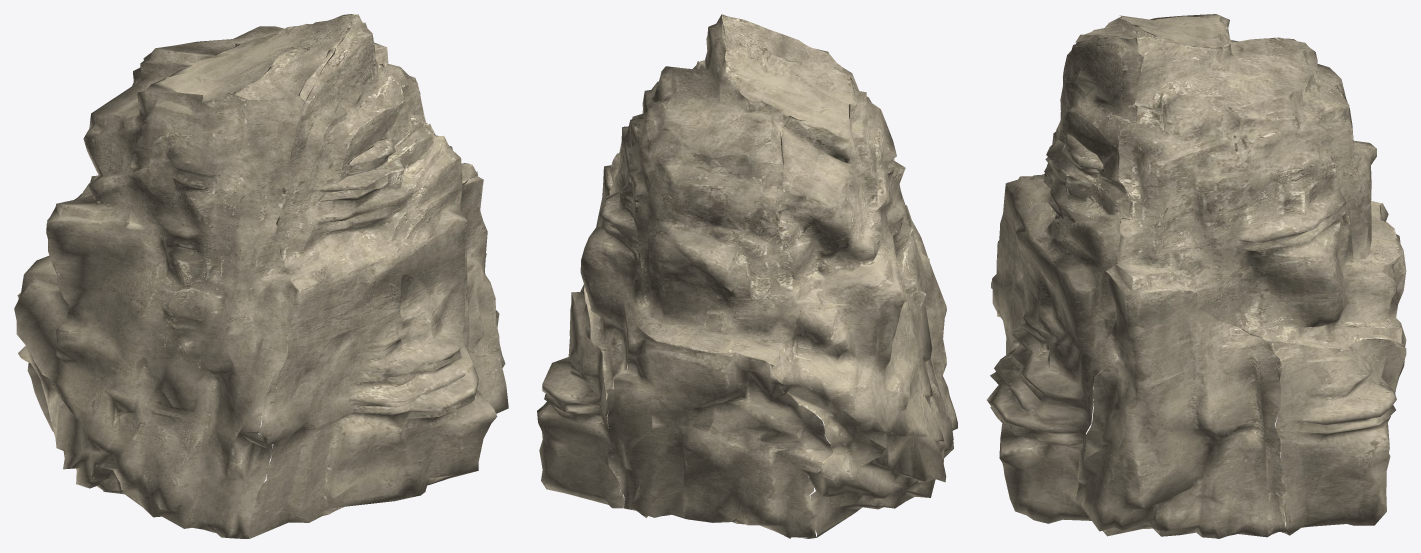
The model's file is a32_cliff_b.glb.
The picture shows the model from 3 angles, left to right: view 1: azimuth 30°, elevation 25°; view 2: azimuth 150°, elevation 25°; view 3: azimuth 270°, elevation 25°; orthographic projection. The views are drawn at different scales.
Parts seen in each view (by area): view 1: body; view 2: body; view 3: body.
Boxes of the visible parts, left/top/right/bottom form: body: left=14, top=14, right=508, bottom=538; body: left=537, top=14, right=957, bottom=538; body: left=987, top=14, right=1406, bottom=538.
Bounding box in the file's own units: 1 × 1.02 × 0.8551.
1 material, 1 textured.
